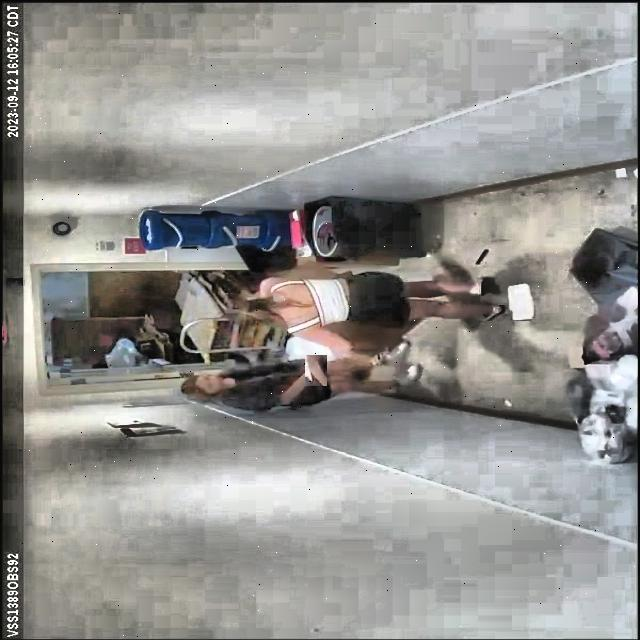not-gloved: (302, 356, 329, 383)
